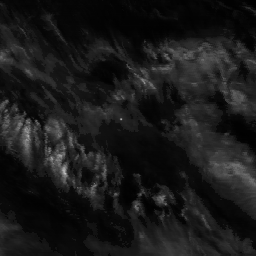Target: (118, 117, 124, 122)
